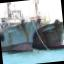fishing boat: (0, 0, 43, 57), (27, 0, 64, 54)
